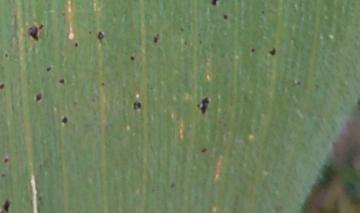tarspot: (27, 23, 45, 41), (196, 95, 210, 115), (1, 198, 12, 213), (33, 91, 44, 103), (289, 77, 301, 87), (267, 47, 277, 57), (57, 76, 67, 86), (132, 101, 141, 111), (60, 115, 69, 125), (96, 31, 105, 41), (2, 156, 10, 165), (178, 26, 186, 34), (60, 10, 68, 18), (222, 13, 229, 22), (152, 35, 159, 44), (45, 64, 52, 73), (199, 147, 207, 154), (249, 46, 256, 54), (128, 54, 136, 61), (86, 29, 94, 36), (73, 41, 80, 48), (99, 81, 106, 88), (1, 172, 8, 179), (169, 182, 175, 190), (210, 1, 218, 7), (182, 39, 188, 47), (260, 8, 266, 16), (1, 83, 6, 92), (313, 82, 320, 88), (3, 51, 8, 59)
